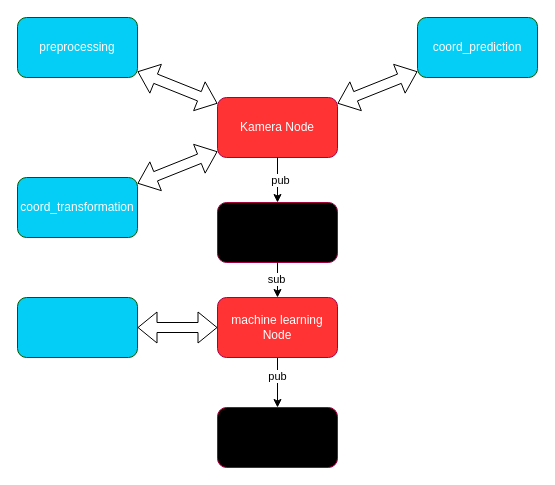
Some shapes in this 555 by 485 pixel diagram are drawn without their labels. The shapes that lost their labels are listed below. From the top down, each one's centre as x and y in pixels, then its label:
(x=277, y=232): /obj_data
(x=77, y=327): classify
(x=277, y=437): /obj_data_deluxe
